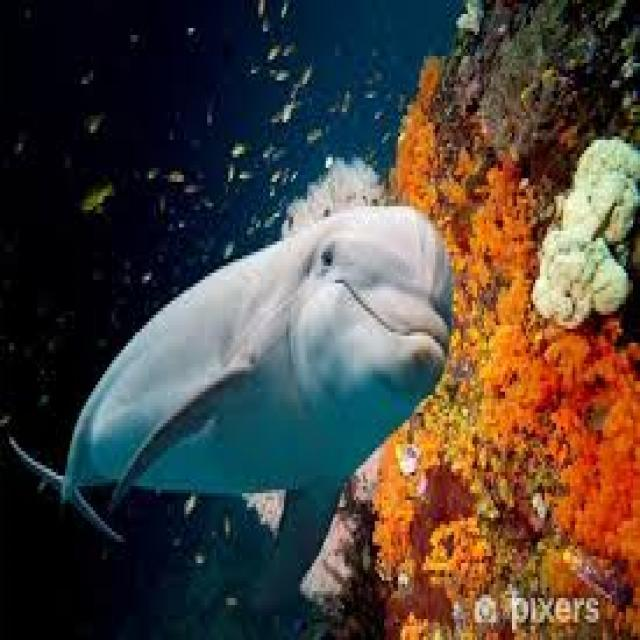dolphin: (9, 130, 452, 622)
